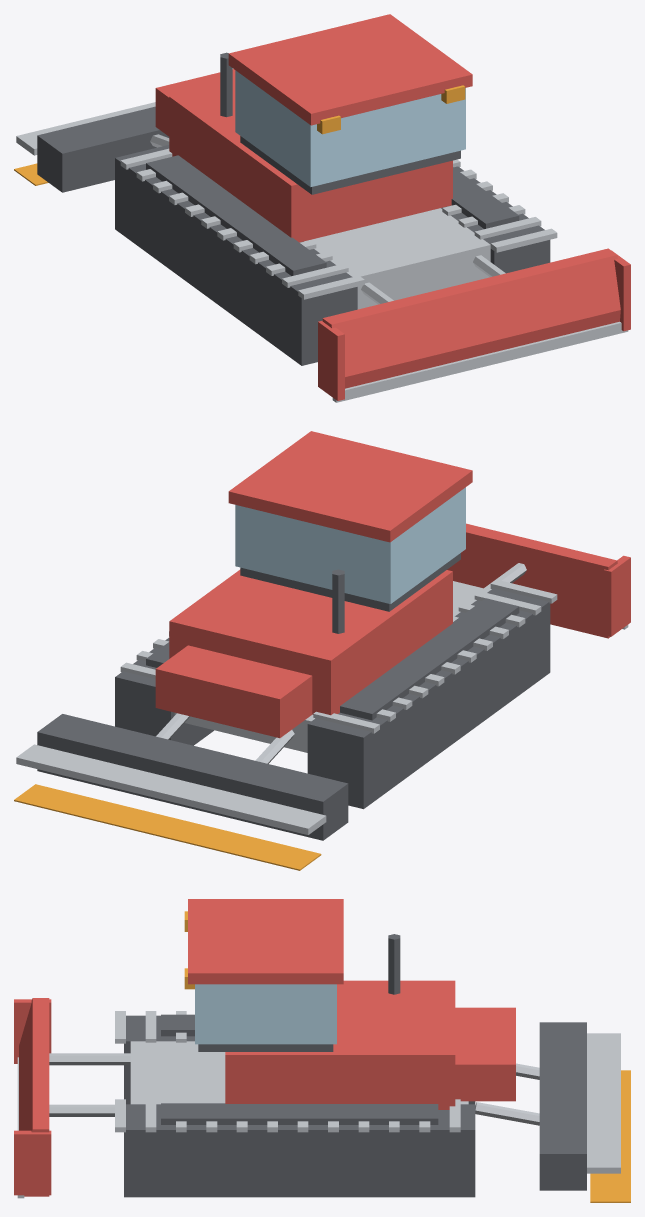
File: ski-resort-and-snow-park-snow-groomer-bdd05f24__26004.glb
The picture shows the model from 3 angles, top to bottom: view 1: azimuth 30°, elevation 25°; view 2: azimuth 150°, elevation 25°; view 3: azimuth 270°, elevation 25°; orthographic projection. The views are drawn at different scales.
Parts seen in each view (by area): view 1: snow-groomer, blade (×2), tiller (×2); view 2: snow-groomer, tiller (×3), blade; view 3: snow-groomer, tiller (×3), blade (×2).
Boxes of the visible parts, bbox=[...] form: snow-groomer: bbox=[115, 14, 557, 365]; blade (×2): bbox=[318, 248, 630, 402]; tiller (×2): bbox=[16, 102, 169, 192]; snow-groomer: bbox=[115, 431, 557, 809]; tiller (×3): bbox=[14, 713, 348, 870]; blade: bbox=[447, 523, 630, 638]; snow-groomer: bbox=[115, 899, 515, 1197]; tiller (×3): bbox=[475, 1022, 630, 1202]; blade (×2): bbox=[14, 998, 130, 1198].
Size of the model in its own units: 4.72 by 3.33 by 9.12.
